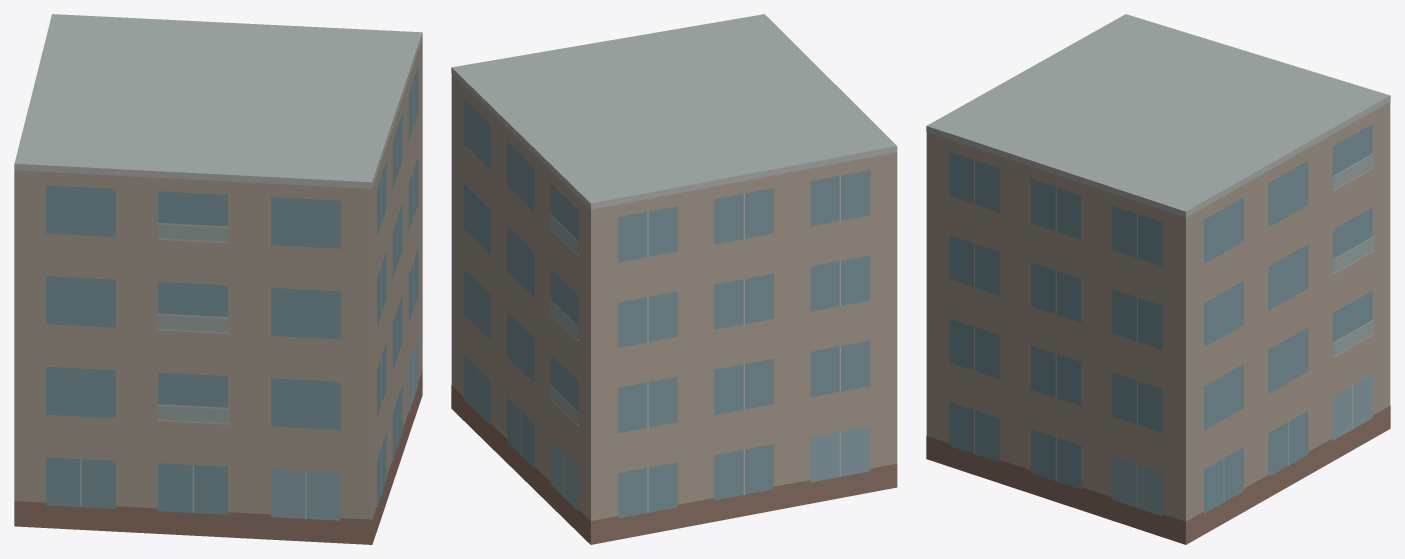
The model's file is survey-upis-32629174.glb.
3 views of the same model, side by side, from view 1: azimuth 30°, elevation 25°; view 2: azimuth 150°, elevation 25°; view 3: azimuth 270°, elevation 25° (orthographic). The views are drawn at different scales.
Visible parts, largest first — view 1: survey-upis-32629174.tmp; view 2: survey-upis-32629174.tmp; view 3: survey-upis-32629174.tmp.
Part boxes in pixels (x1,y1,x2,y2): survey-upis-32629174.tmp: (14,14,422,544); survey-upis-32629174.tmp: (451,14,897,544); survey-upis-32629174.tmp: (926,14,1390,544).
Size of the model in its own units: 17.06 by 13.4 by 16.92.
